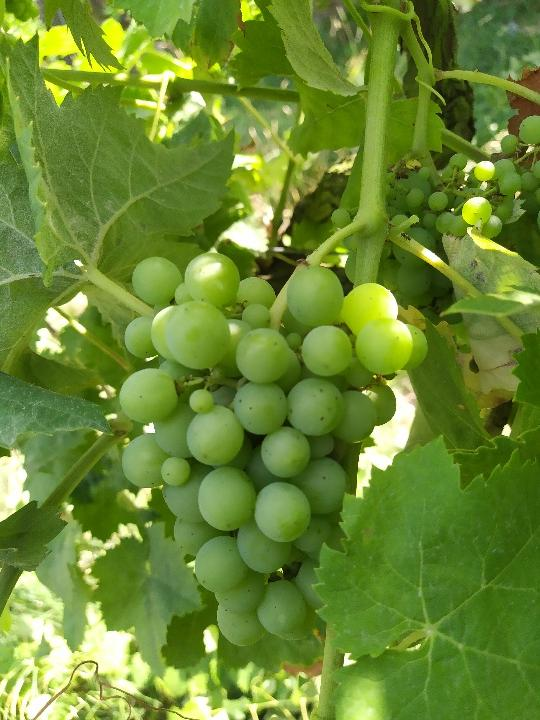grape: (119, 251, 430, 650)
